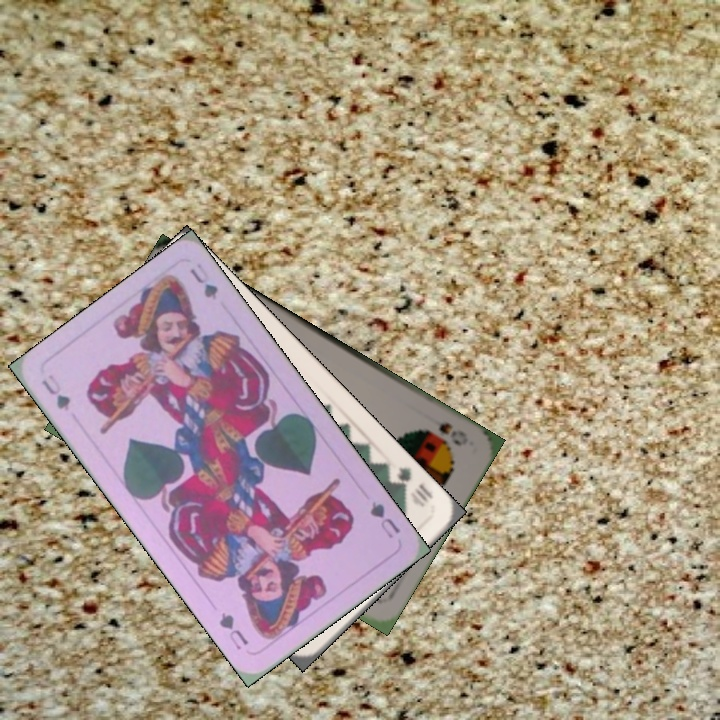G10: (389, 462, 437, 510)
GU: (365, 496, 404, 541), (37, 370, 73, 414)
SO: (419, 418, 471, 449)
